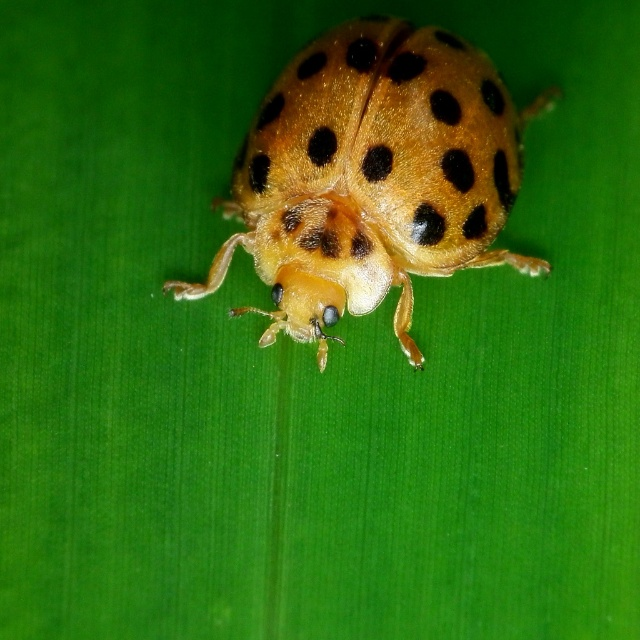Ladybug: (166, 11, 561, 374)
